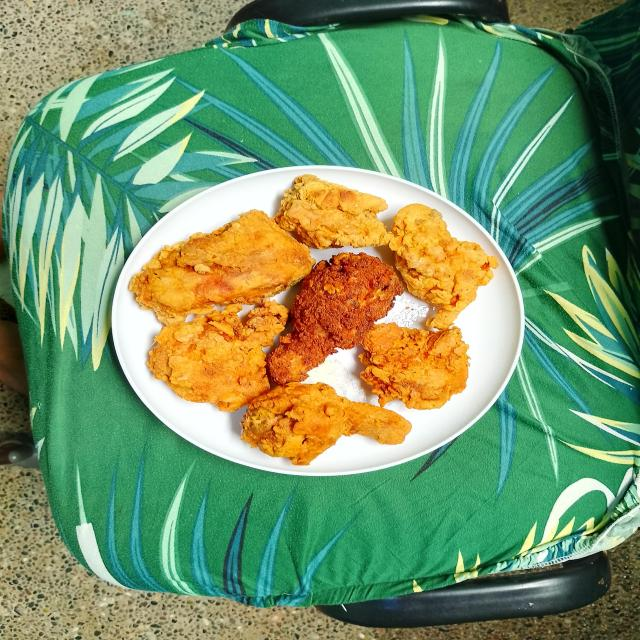Chicken -Fried Chicken-: (147, 173, 496, 460)
